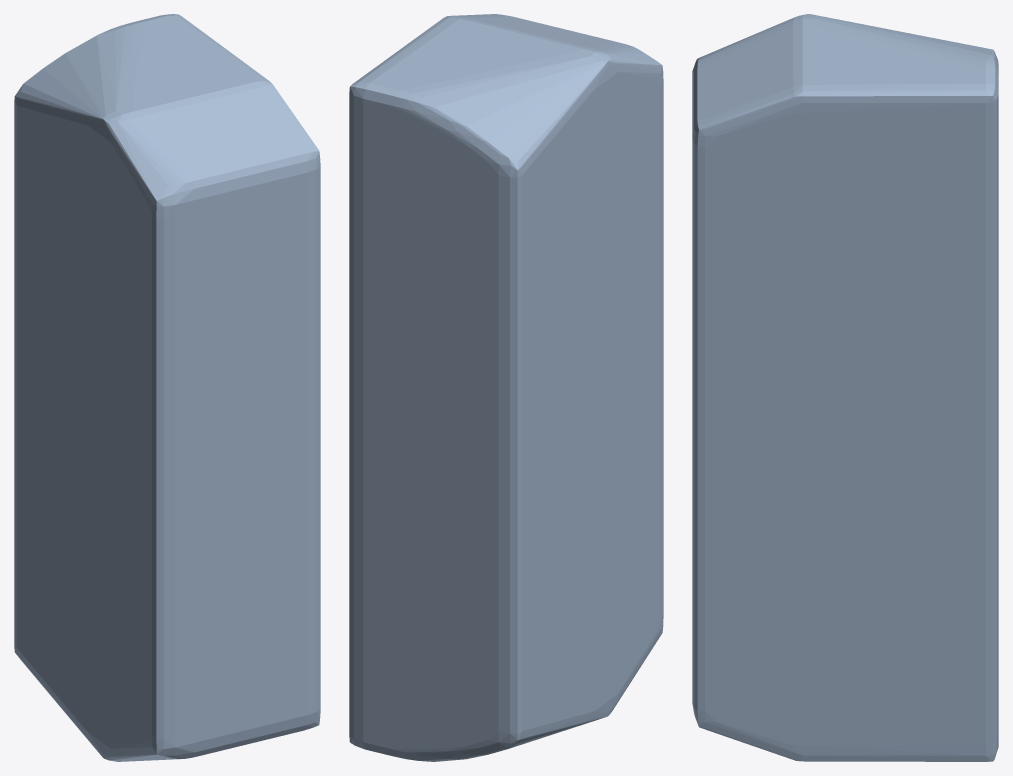
File: right_forearm_1_part_6.obj
3 renders of one model, left to right at view 1: azimuth 30°, elevation 25°; view 2: azimuth 150°, elevation 25°; view 3: azimuth 270°, elevation 25°, orthographic. The views are drawn at different scales.
Size of the model in its own units: 36.18 by 135 by 55.68.
